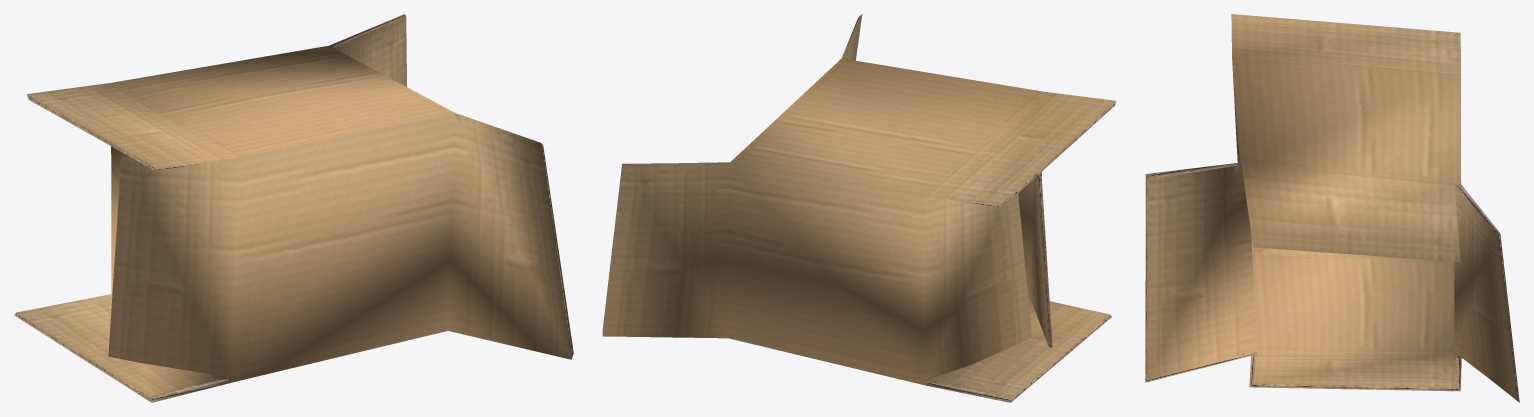
The model's file is BoxPlainS3.fbx.
The picture shows the model from 3 angles, left to right: view 1: azimuth 30°, elevation 25°; view 2: azimuth 150°, elevation 25°; view 3: azimuth 270°, elevation 25°; orthographic projection. The views are drawn at different scales.
Visible parts, largest first — view 1: BoxPlainS3; view 2: BoxPlainS3; view 3: BoxPlainS3.
Part boxes in pixels (left/top/right/bottom): BoxPlainS3: left=14, top=14, right=573, bottom=402; BoxPlainS3: left=602, top=14, right=1116, bottom=402; BoxPlainS3: left=1145, top=14, right=1519, bottom=402.
Bounding box in the file's own units: 115 × 63.09 × 100.
